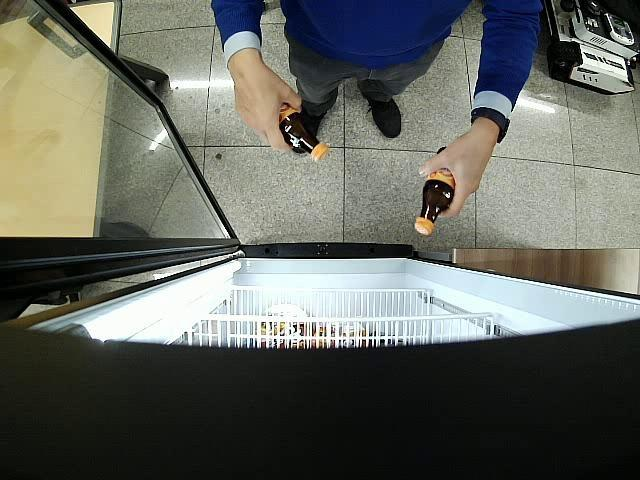17_vita500: (414, 146, 456, 234), (279, 103, 330, 161)
